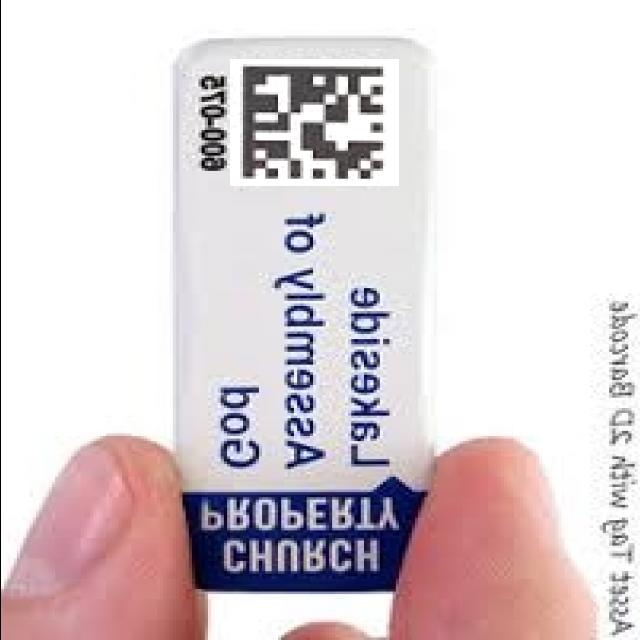DataMatrix: (229, 59, 398, 186)
